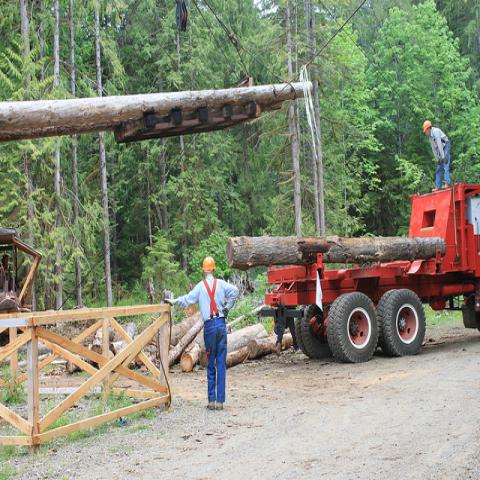truck: (265, 186, 479, 355)
